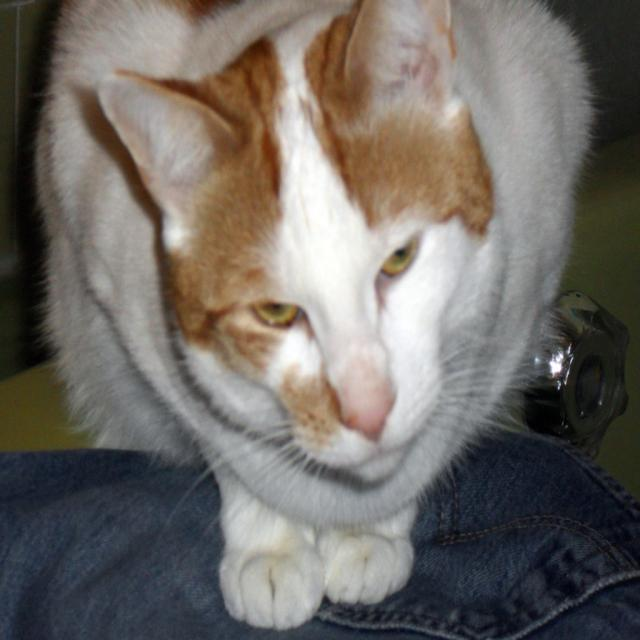Cat: (35, 0, 598, 630)
